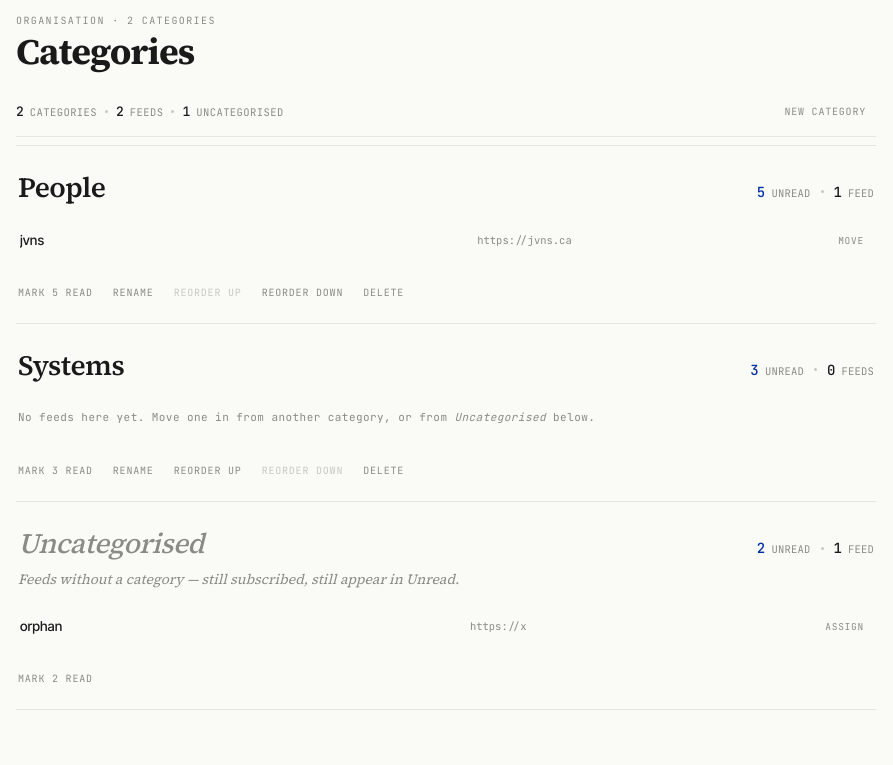
Categories view › clicking "+ New category" reveals the inline create input
The width and height of the screenshot is (893, 765).
Click the button "New category".
click(825, 111)  # box [774,99,876,124]
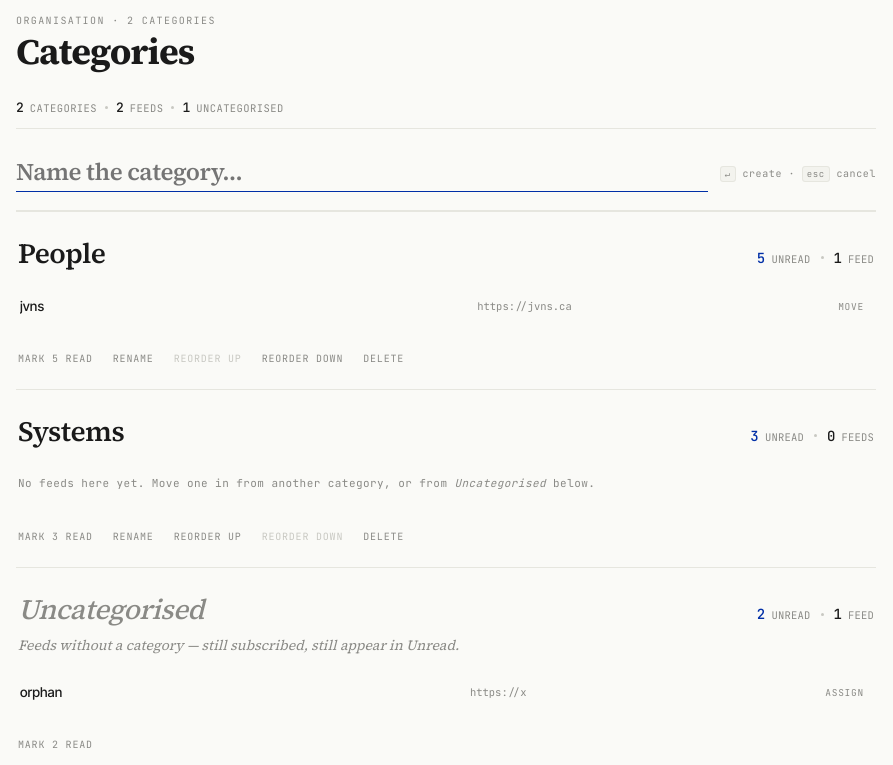
Expected: the field with placeholder "Name the category…" is shown, [16,155,708,192]
